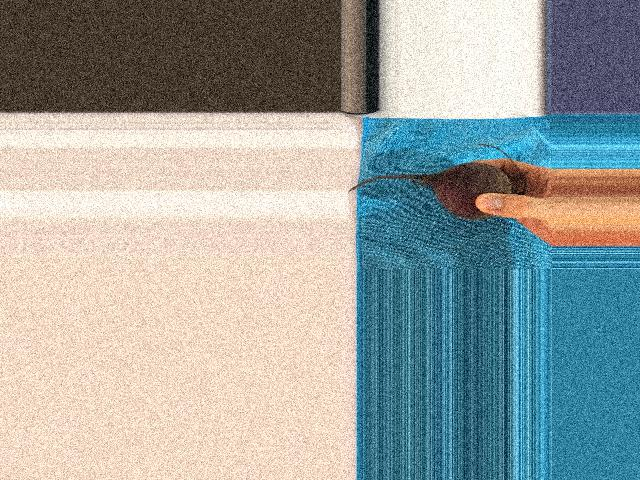beet: (347, 145, 525, 220)
